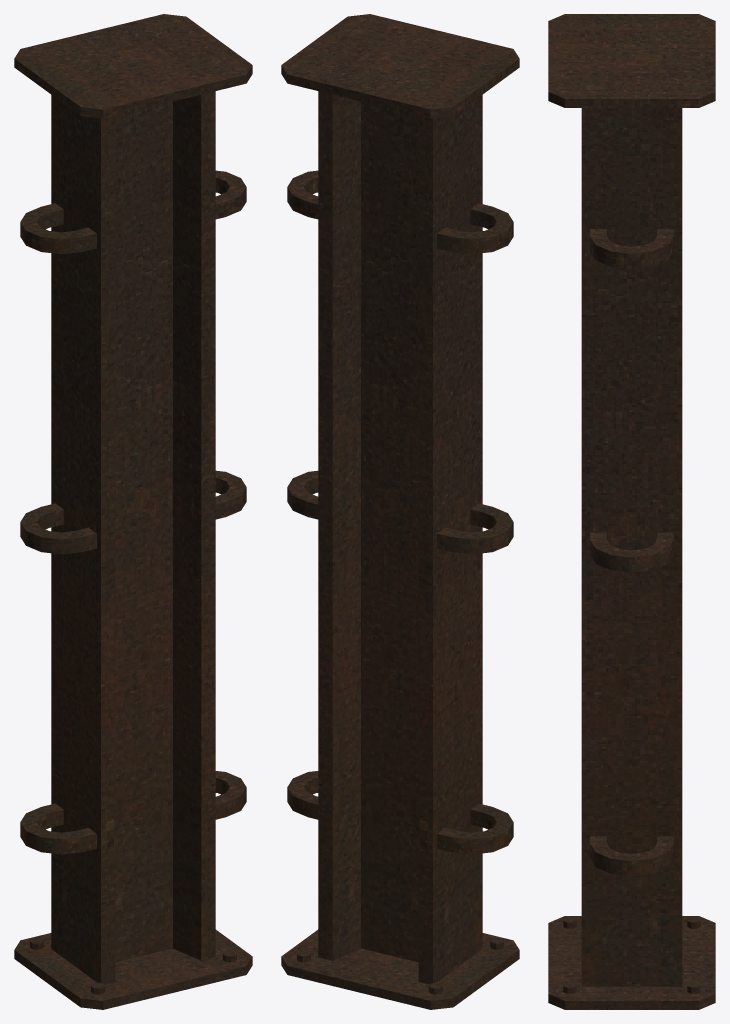
File: beam_hc_vertical_2.glb
The picture shows the model from 3 angles, left to right: view 1: azimuth 30°, elevation 25°; view 2: azimuth 150°, elevation 25°; view 3: azimuth 270°, elevation 25°; orthographic projection.
Visible parts, largest first — view 1: beam_hc_vertical_2; view 2: beam_hc_vertical_2; view 3: beam_hc_vertical_2.
Part boxes in pixels (x1,y1,x2,y2): beam_hc_vertical_2: (14,14,252,1009); beam_hc_vertical_2: (281,14,519,1009); beam_hc_vertical_2: (548,14,715,1009).
Bounding box in the file's own units: 0.75 × 3 × 0.5.
1 material, 1 textured.
